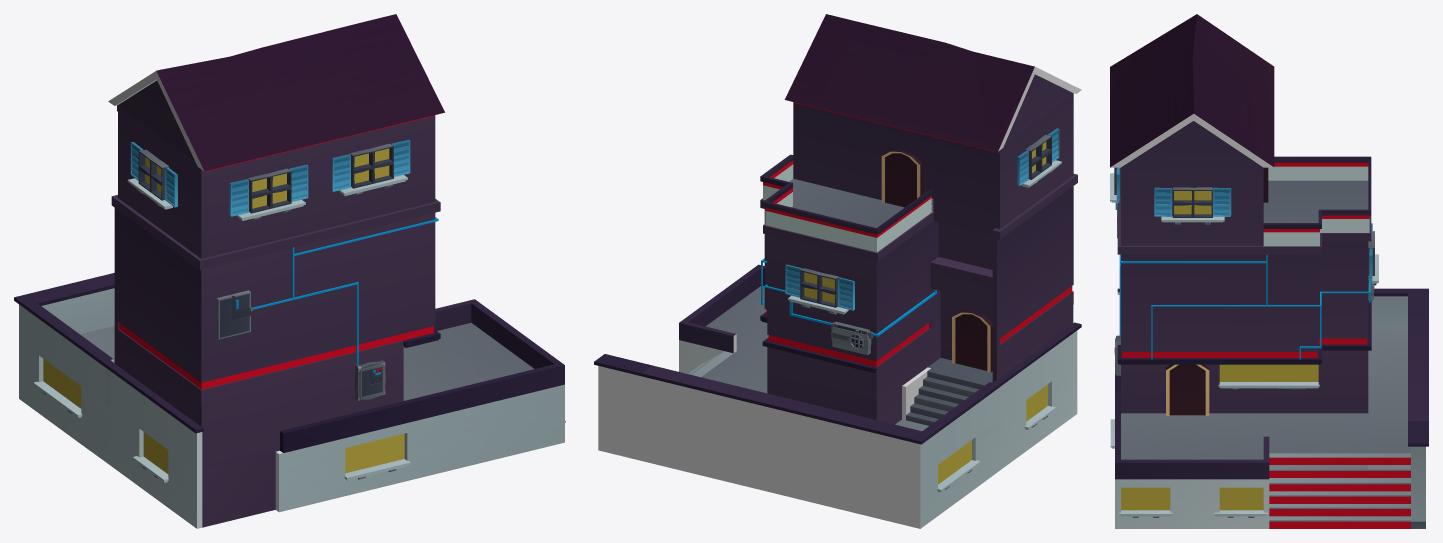
Rendered from House_ApartmentTest.fbx.
3 views of the same model, side by side, from view 1: azimuth 30°, elevation 25°; view 2: azimuth 150°, elevation 25°; view 3: azimuth 270°, elevation 25° (orthographic). The views are drawn at different scales.
Visible parts, largest first — view 1: Cube.026; view 2: Cube.026; view 3: Cube.026.
Boxes of the visible parts, left/top/right/bottom form: Cube.026: left=14, top=14, right=565, bottom=528; Cube.026: left=594, top=14, right=1081, bottom=528; Cube.026: left=1110, top=14, right=1428, bottom=528.
Bounding box in the file's own units: 885 × 957 × 760.
